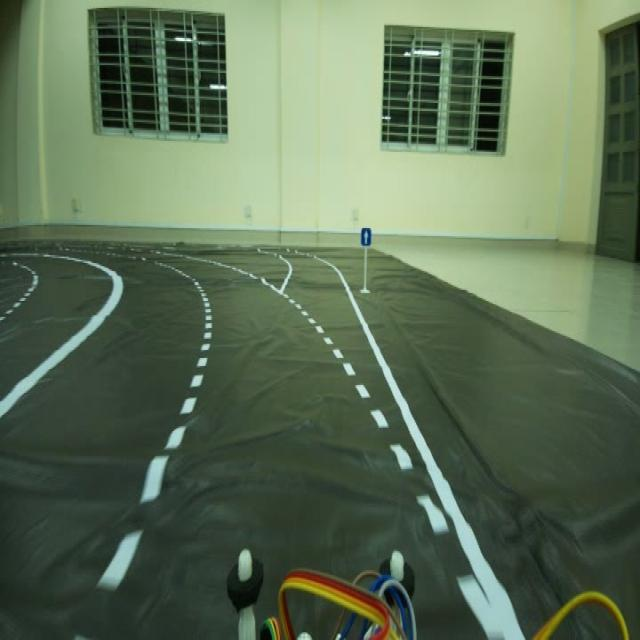onewayroad: (360, 225, 374, 252)
